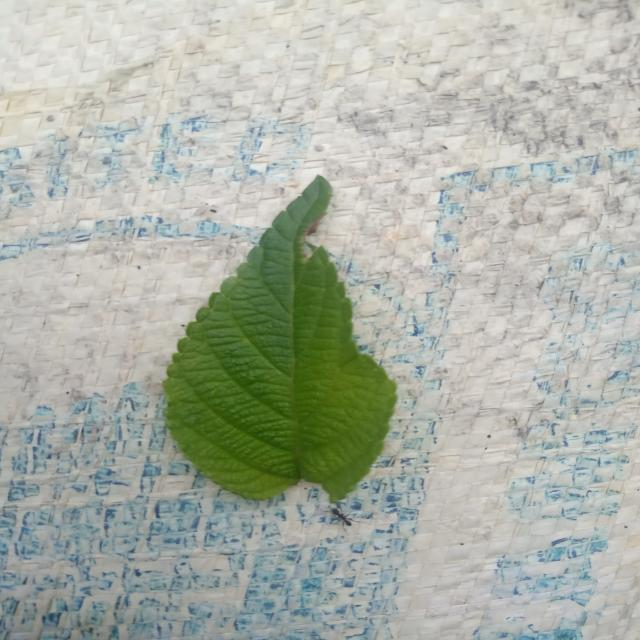Lantana: (163, 176, 397, 502)
